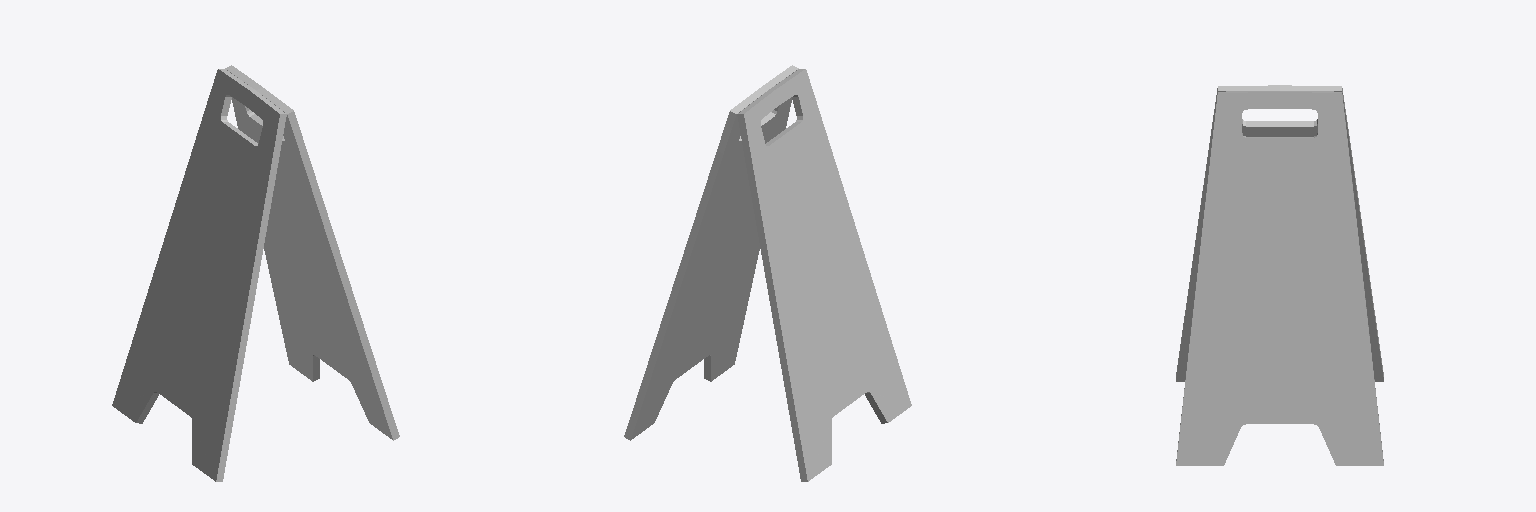
File: sign.obj
The picture shows the model from 3 angles: view 1: azimuth 30°, elevation 25°; view 2: azimuth 150°, elevation 25°; view 3: azimuth 270°, elevation 25°; orthographic projection.
Parts seen in each view (by area): view 1: Wet_floor_sign; view 2: Wet_floor_sign; view 3: Wet_floor_sign.
Part boxes in pixels (bbox=[...]): Wet_floor_sign: bbox=[112, 65, 399, 481]; Wet_floor_sign: bbox=[624, 65, 911, 481]; Wet_floor_sign: bbox=[1176, 85, 1383, 465].
Size of the model in its own units: 0.3363 by 0.5849 by 0.3298.